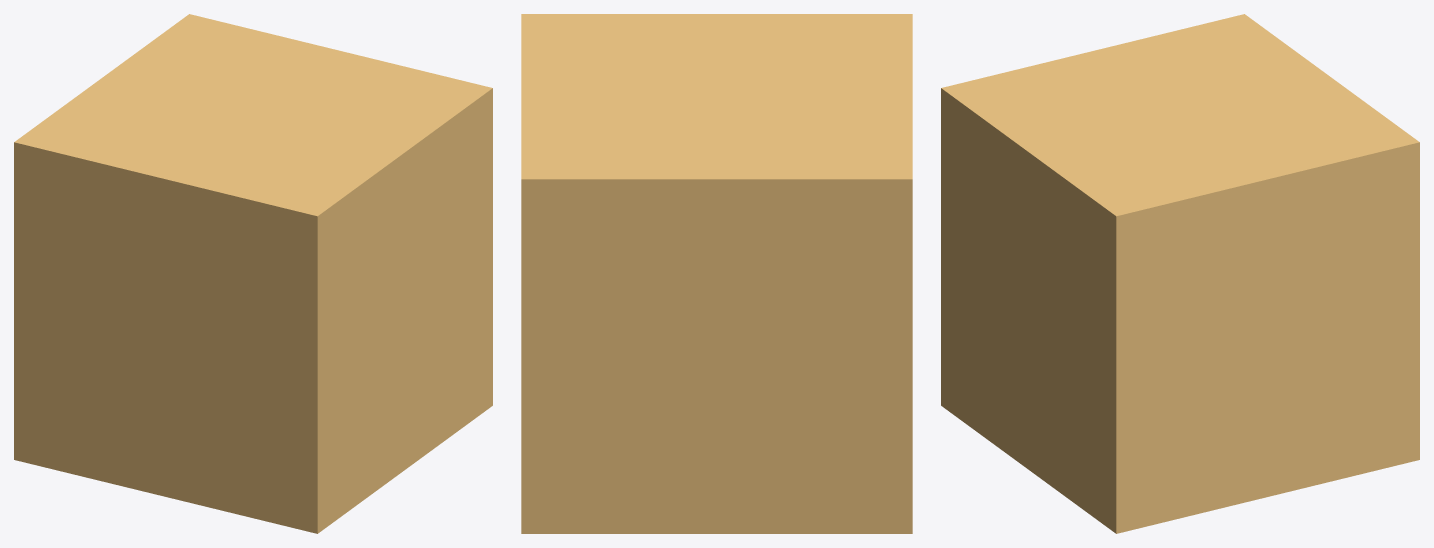
File: lit-brass-cube.glb
The picture shows the model from 3 angles, left to right: view 1: azimuth 30°, elevation 25°; view 2: azimuth 150°, elevation 25°; view 3: azimuth 270°, elevation 25°; orthographic projection. The views are drawn at different scales.
Parts seen in each view (by area): view 1: LitBrassCube; view 2: LitBrassCube; view 3: LitBrassCube.
Boxes of the visible parts, <box> form: LitBrassCube: <box>14,14,492,533</box>; LitBrassCube: <box>521,14,912,533</box>; LitBrassCube: <box>941,14,1419,533</box>.
Bounding box in the file's own units: 1.5 × 1.1 × 1.5.
